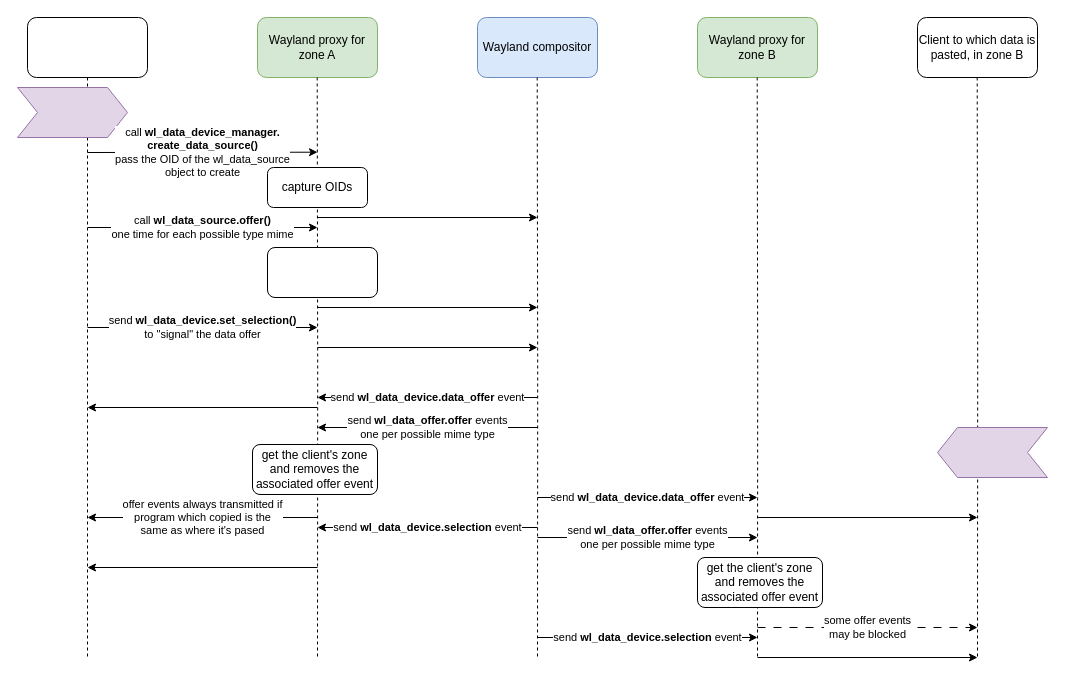
This 1065x683 diagram has some shape labels left out. Here are the shapes that lost their labels. From the top down, the box of each, then its label:
(26, 16, 148, 78): Client from which data is copied, in zone A
(16, 86, 128, 138): copy data
(266, 246, 378, 298): add a new mime type to indicate the client's zone
(936, 426, 1048, 478): keyboard focus
